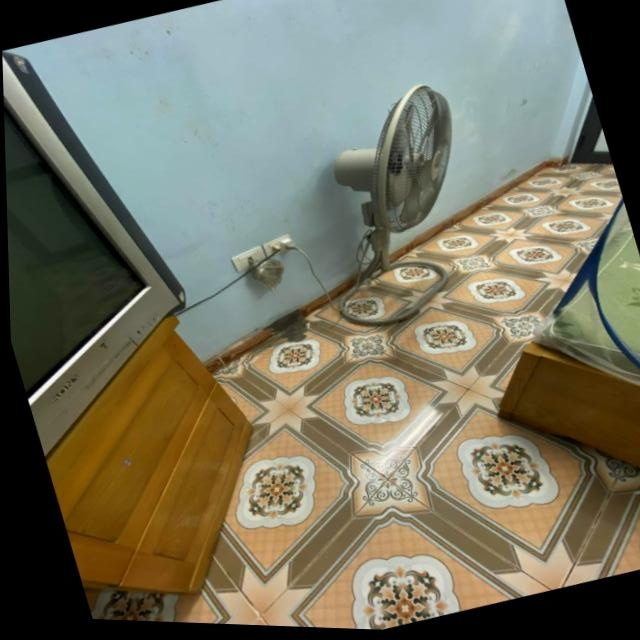outlet: (231, 244, 270, 274), (261, 231, 298, 261)
